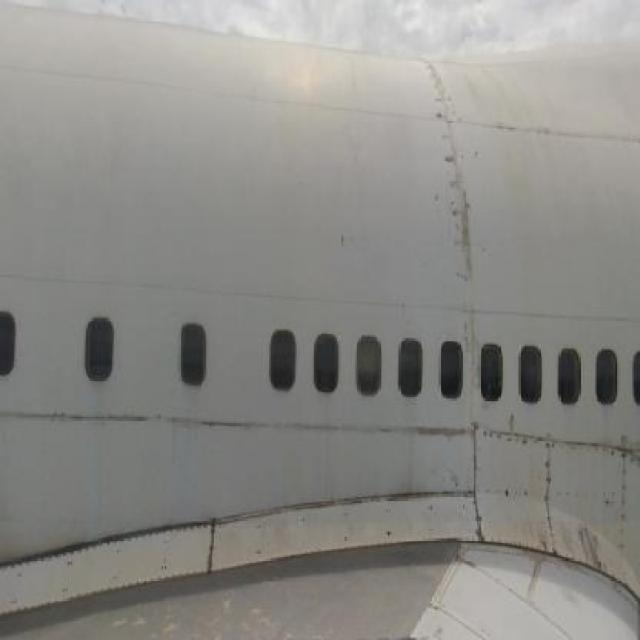Missing-Rivet: (389, 415, 640, 480), (451, 489, 569, 560)
Scartch: (416, 70, 495, 328), (574, 513, 618, 579)
